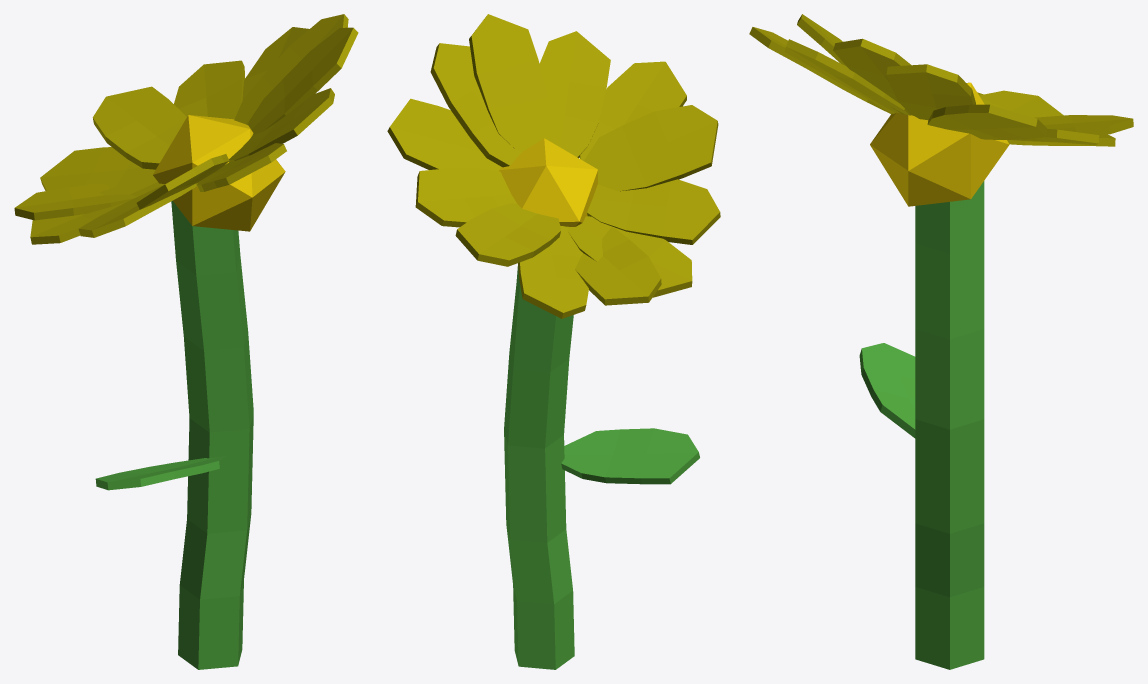
The model's file is Flower.fbx.
3 renders of one model, left to right at view 1: azimuth 30°, elevation 25°; view 2: azimuth 150°, elevation 25°; view 3: azimuth 270°, elevation 25°, orthographic. The views are drawn at different scales.
Visible parts, largest first — view 1: YellowFlower1; view 2: YellowFlower1; view 3: YellowFlower1.
Part boxes in pixels (<box>): YellowFlower1: <box>14,14,358,669</box>; YellowFlower1: <box>387,14,720,669</box>; YellowFlower1: <box>749,14,1133,669</box>.
Bounding box in the file's own units: 1.49 × 3.05 × 1.59.
